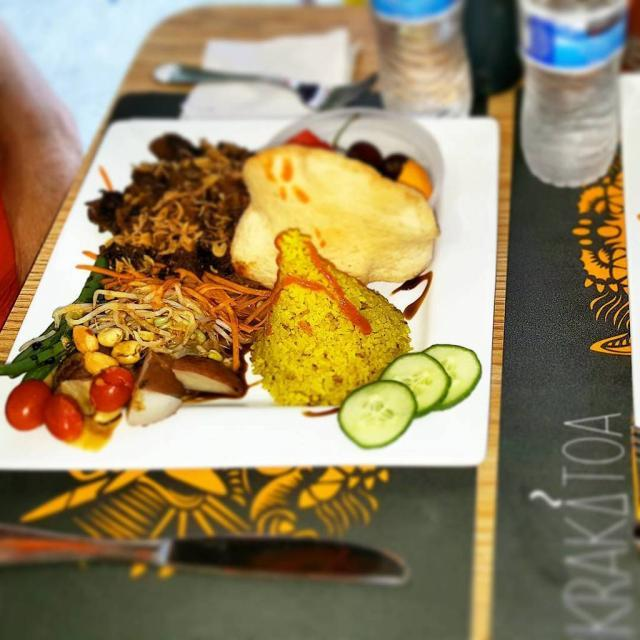Zucchini: (334, 349, 484, 449)
